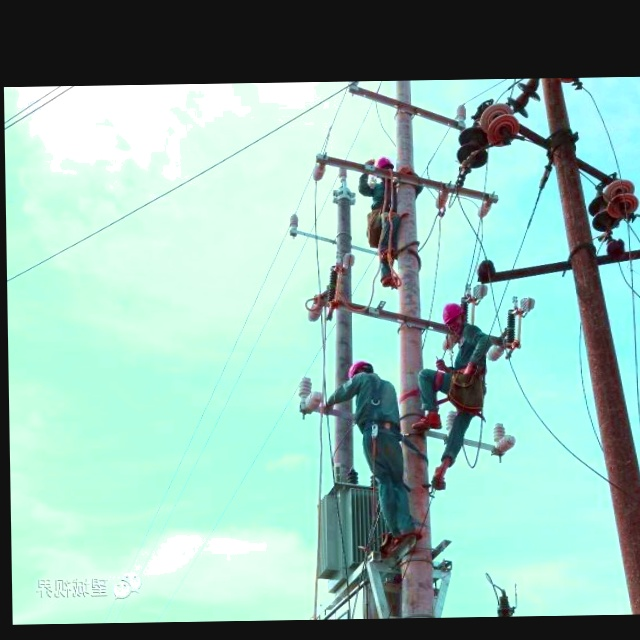Con_Casco: (440, 302, 465, 336), (348, 357, 374, 383)
